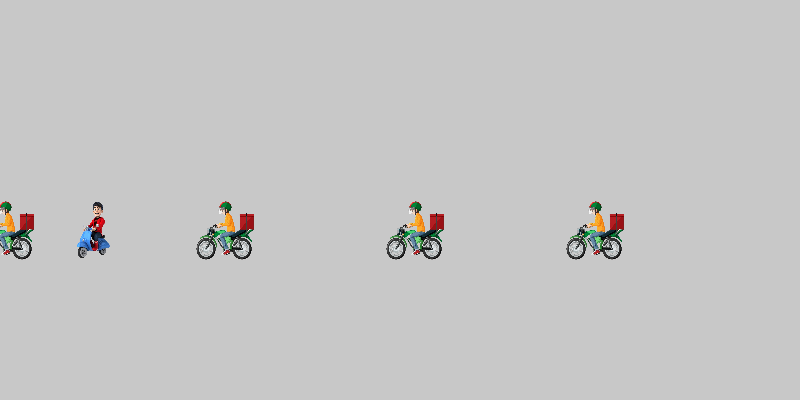helmet: (195, 200, 255, 260), (385, 200, 445, 260), (565, 200, 625, 260), (0, 200, 35, 260)
no_helmet: (65, 200, 125, 260)
